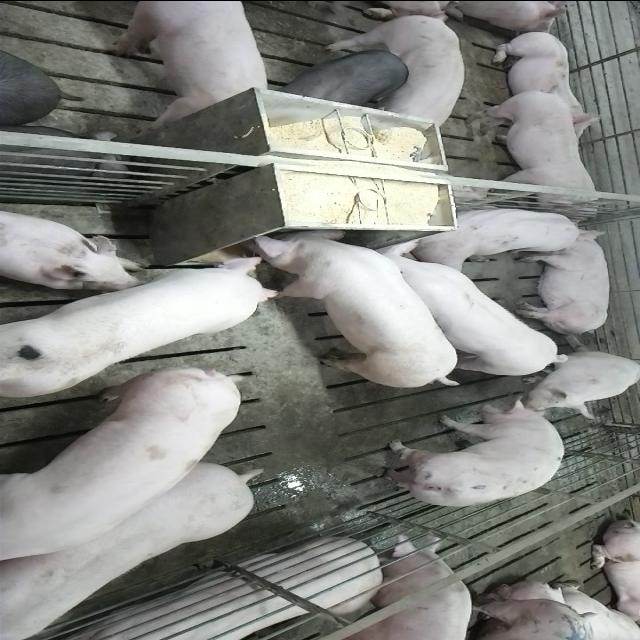Feeding: (6, 241, 282, 397), (236, 220, 464, 384)
Lateral_lying: (22, 539, 386, 640), (512, 228, 612, 336)
Sitting: (510, 348, 638, 414)
Standing: (1, 363, 250, 561), (0, 464, 260, 640), (356, 243, 570, 379), (362, 400, 566, 512), (103, 1, 269, 133), (464, 84, 610, 218), (338, 11, 466, 131), (338, 534, 475, 640), (274, 45, 410, 104)
Sternal_lying: (485, 30, 609, 130), (412, 202, 596, 266), (0, 206, 143, 286)
